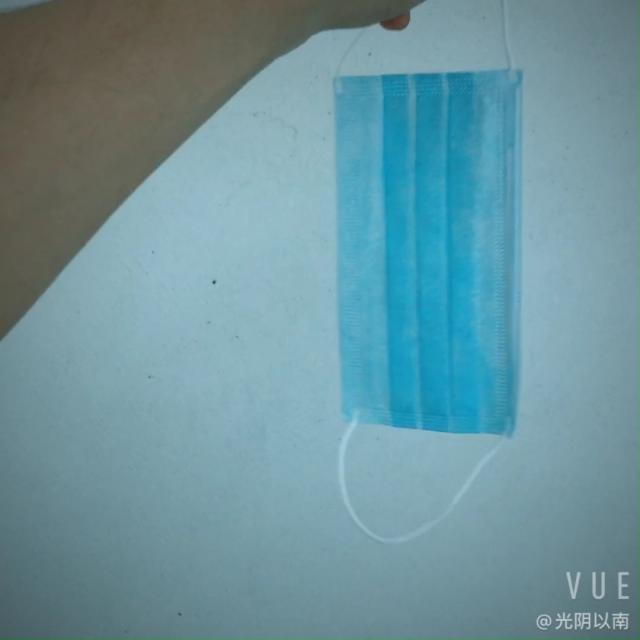non-organic waste: (329, 49, 545, 457)
